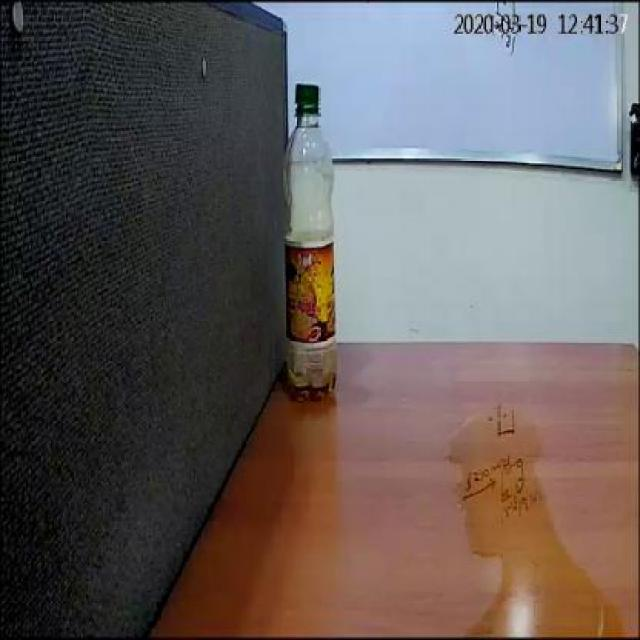spill: (446, 408, 626, 636)
